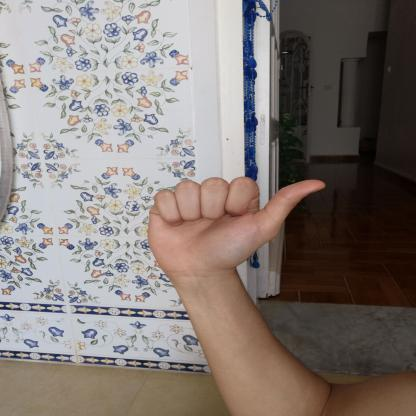DAD: (135, 170, 339, 286)
